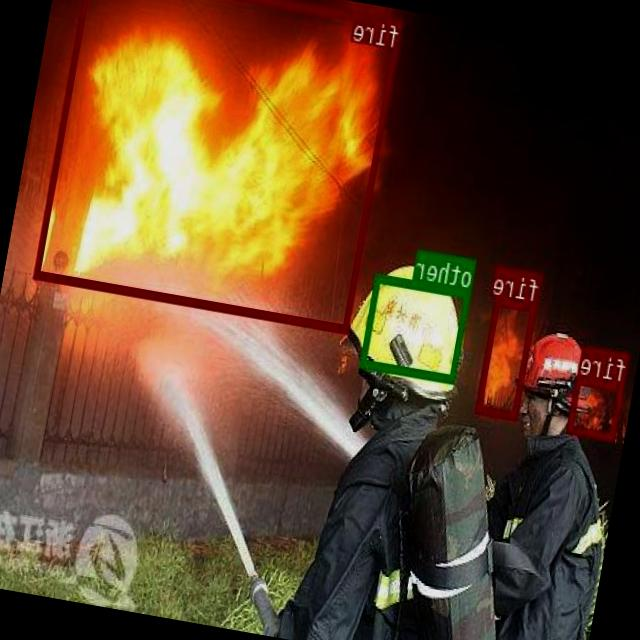fire: (34, 0, 403, 331), (476, 294, 538, 418), (568, 374, 626, 440)
